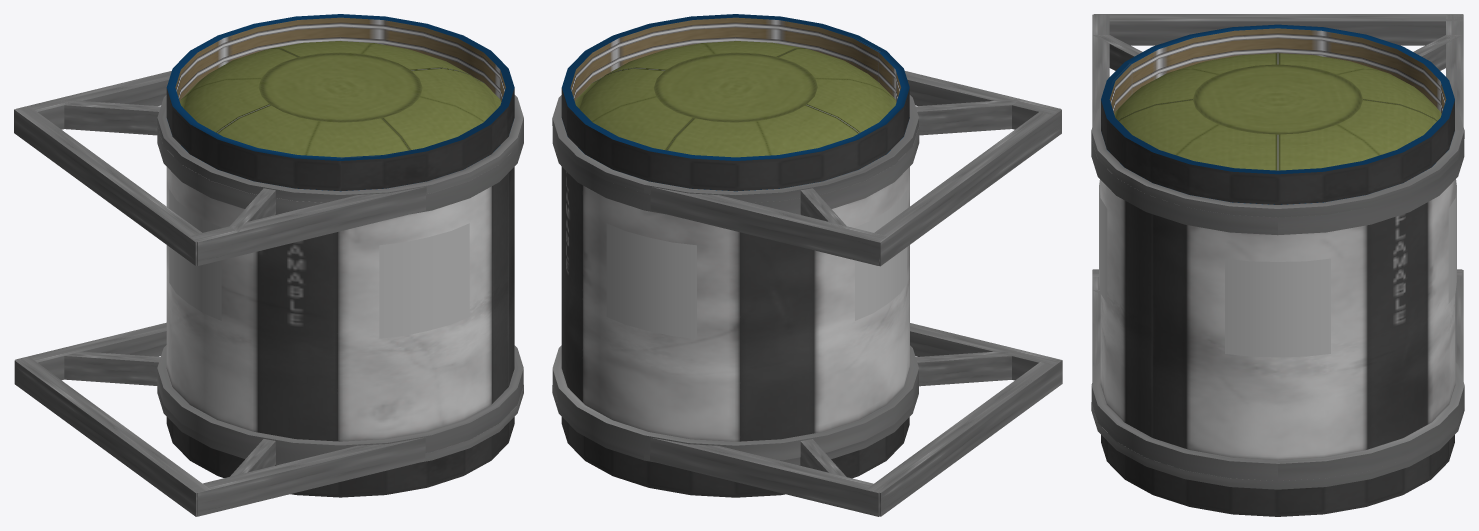
File: FLM-900.FBX
3 renders of one model, left to right at view 1: azimuth 30°, elevation 25°; view 2: azimuth 150°, elevation 25°; view 3: azimuth 270°, elevation 25°, orthographic.
Visible parts, largest first — view 1: Cylinder002, EndCap001, TankSleeve001, decalPanel001, Box006, Box011, Box007, MountingBracketBand002, Box003, TankSleeve002, BarrelBand003, MountingBracketBand001 (+8 smaller); view 2: Cylinder002, EndCap001, TankSleeve001, decalPanel003, Box001, MountingBracketBand002, Box010, Box011, Box003, TankSleeve002, BarrelBand003, MountingBracketBand001 (+8 smaller); view 3: Cylinder002, EndCap001, TankSleeve001, decalPanel002, TankSleeve002, MountingBracketBand002, Box003, MountingBracketBand001, BarrelBand003, BarrelBand002, Box001, Box006 (+6 smaller).
Boxes of the visible parts, left/top/right/bottom form: Cylinder002: left=166, top=167, right=514, bottom=441; EndCap001: left=167, top=41, right=501, bottom=191; TankSleeve001: left=166, top=14, right=514, bottom=190; decalPanel001: left=379, top=223, right=469, bottom=338; Box006: left=189, top=186, right=426, bottom=265; Box011: left=14, top=357, right=210, bottom=516; Box007: left=189, top=437, right=425, bottom=516; MountingBracketBand002: left=157, top=345, right=523, bottom=459; Box003: left=14, top=106, right=201, bottom=265; TankSleeve002: left=166, top=417, right=514, bottom=497; BarrelBand003: left=157, top=95, right=523, bottom=202; MountingBracketBand001: left=157, top=126, right=523, bottom=214; Cylinder002: left=561, top=167, right=909, bottom=441; EndCap001: left=567, top=41, right=903, bottom=191; TankSleeve001: left=561, top=14, right=909, bottom=191; decalPanel003: left=606, top=223, right=696, bottom=338; Box001: left=650, top=187, right=886, bottom=265; MountingBracketBand002: left=552, top=345, right=918, bottom=460; Box010: left=650, top=437, right=879, bottom=516; Box011: left=866, top=360, right=1062, bottom=516; Box003: left=866, top=109, right=1061, bottom=266; TankSleeve002: left=561, top=417, right=909, bottom=497; BarrelBand003: left=552, top=95, right=918, bottom=202; MountingBracketBand001: left=552, top=126, right=919, bottom=214; Cylinder002: left=1100, top=180, right=1455, bottom=459; EndCap001: left=1107, top=53, right=1448, bottom=204; TankSleeve001: left=1101, top=24, right=1454, bottom=204; decalPanel002: left=1225, top=258, right=1330, bottom=357; TankSleeve002: left=1101, top=435, right=1454, bottom=516; MountingBracketBand002: left=1091, top=362, right=1464, bottom=480; Box003: left=1093, top=14, right=1463, bottom=45; MountingBracketBand001: left=1091, top=139, right=1464, bottom=235; BarrelBand003: left=1091, top=107, right=1464, bottom=217; BarrelBand002: left=1091, top=402, right=1464, bottom=489; Box001: left=1446, top=14, right=1463, bottom=126; Box006: left=1092, top=14, right=1109, bottom=126.
Size of what is drawn, in the model's own units: 2.45 by 1.97 by 2.
